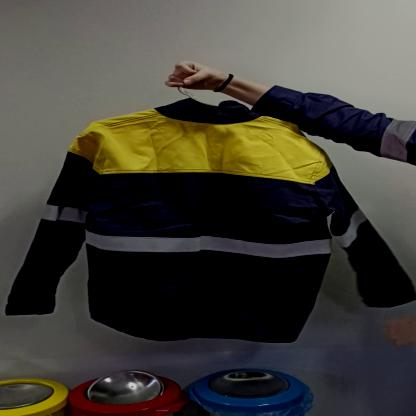C_eletrica: (19, 103, 406, 341)
